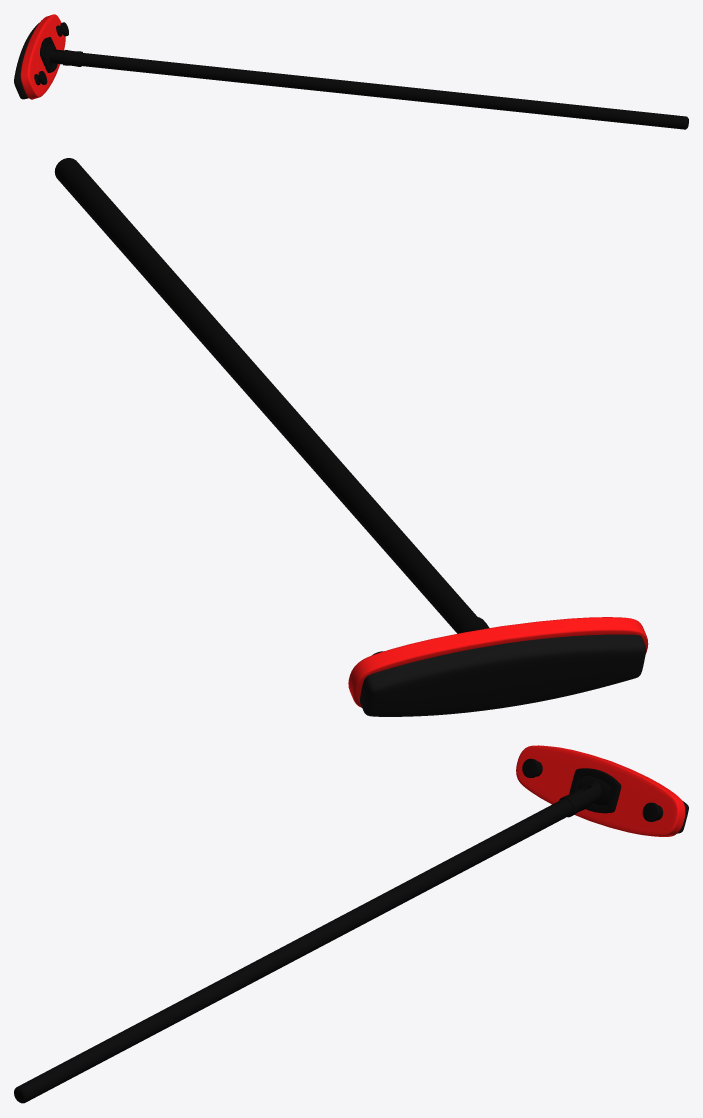
The model's file is Viper REd saperate.FBX.
The picture shows the model from 3 angles, top to bottom: view 1: azimuth 30°, elevation 25°; view 2: azimuth 150°, elevation 25°; view 3: azimuth 270°, elevation 25°; orthographic projection. The views are drawn at different scales.
Visible parts, largest first — view 1: Object002, Object004; view 2: Object004, Object002; view 3: Object002, Object004.
Boxes of the visible parts, <box> form: Object002: <box>47,49,688,129</box>; Object004: <box>14,14,68,99</box>; Object004: <box>348,617,648,716</box>; Object002: <box>54,158,489,633</box>; Object002: <box>14,782,601,1103</box>; Object004: <box>516,745,688,836</box>.
Bounding box in the file's own units: 56.38 × 4.6 × 50.15.
